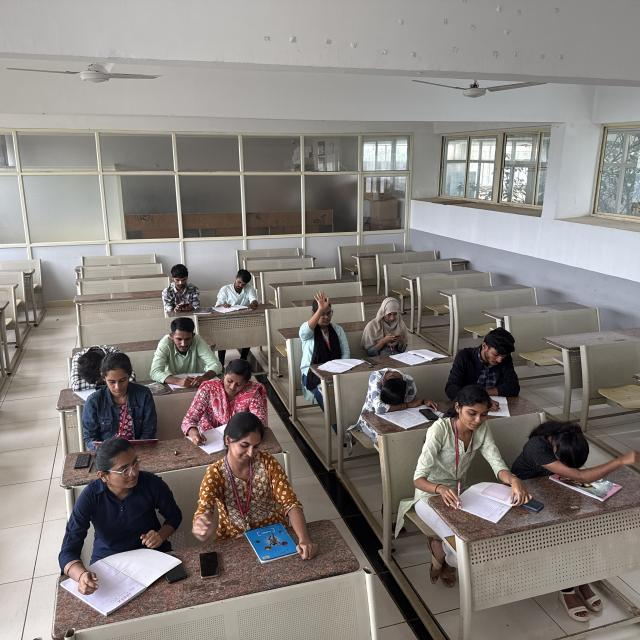Hand Rising: (298, 288, 356, 372)
Reading: (414, 382, 536, 554), (84, 352, 167, 450), (152, 315, 223, 387), (212, 269, 262, 318)
Sleeping: (514, 414, 599, 478), (66, 335, 127, 390), (363, 364, 429, 412)
Using Phone: (362, 294, 413, 352), (161, 262, 207, 316)
Writing: (61, 439, 178, 604), (179, 359, 268, 451), (447, 328, 539, 413)
